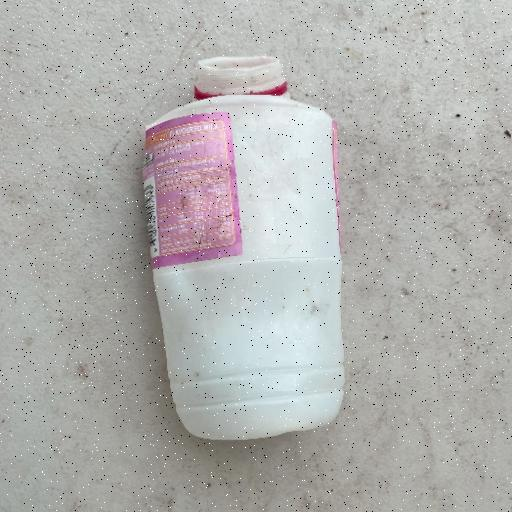Plastic: (139, 54, 348, 442)
